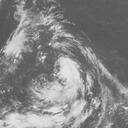cyclone: (27, 41, 90, 105)
